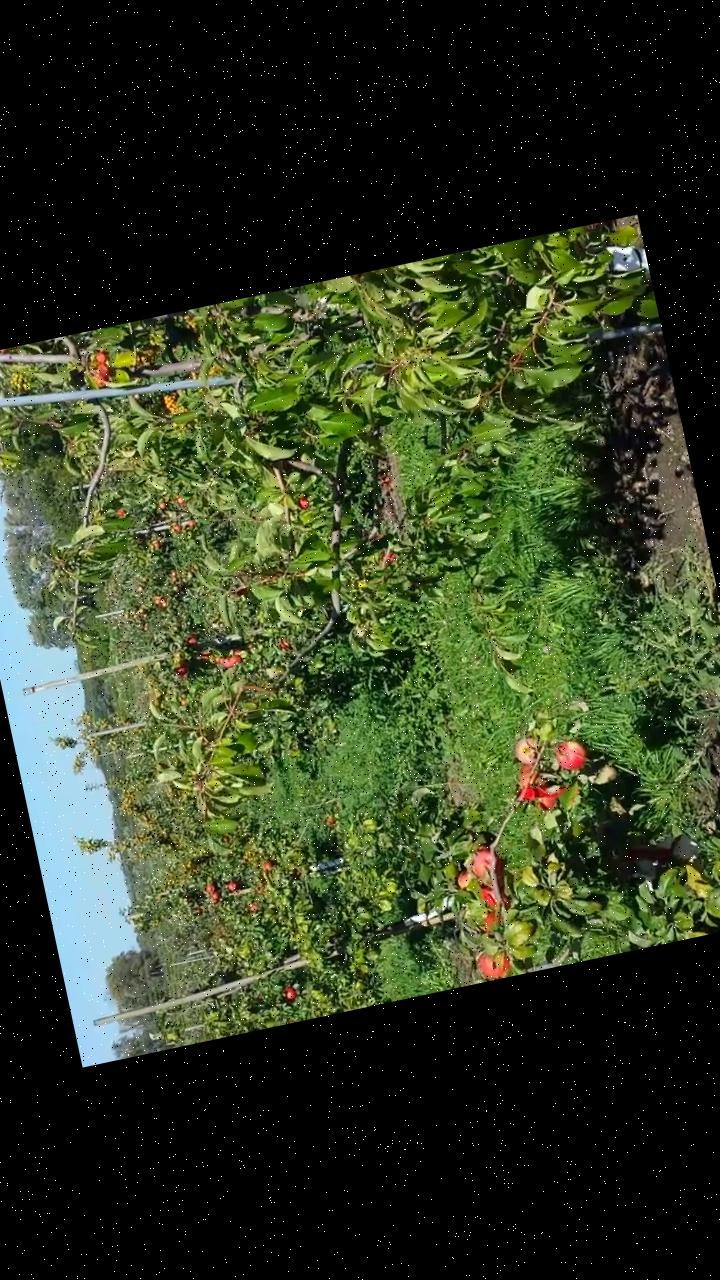Apple: (461, 845, 504, 884), (476, 874, 514, 916), (550, 735, 588, 773), (474, 946, 513, 982), (510, 732, 542, 768), (456, 866, 484, 901), (515, 762, 543, 790), (480, 906, 505, 934), (536, 790, 562, 813)
